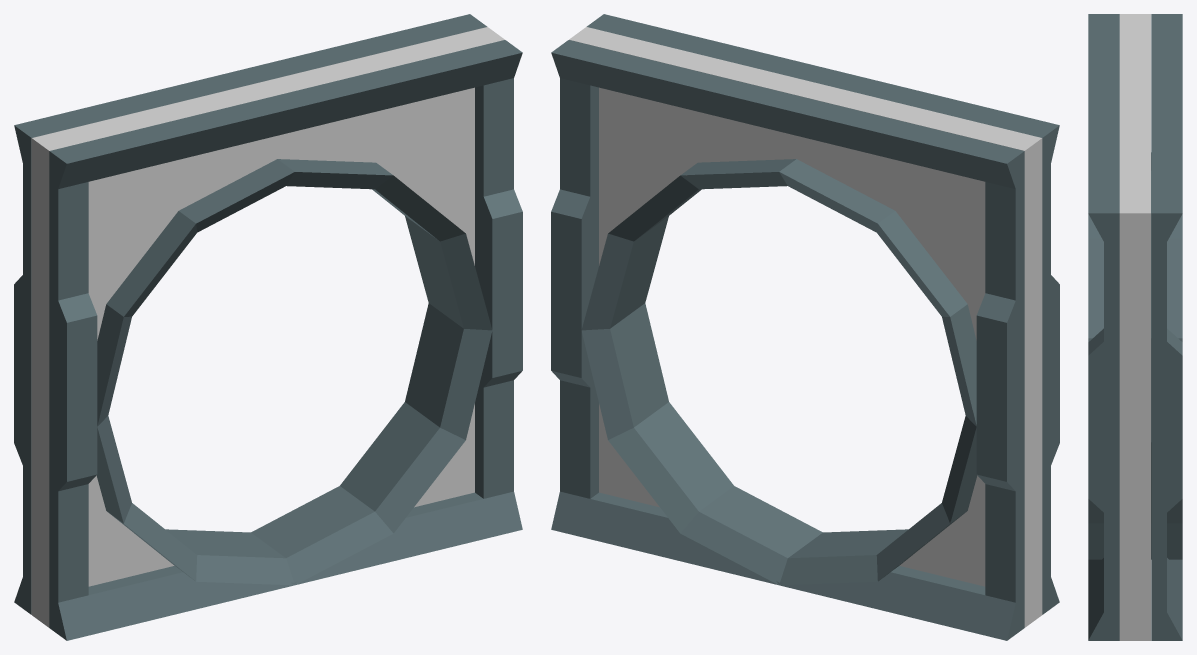
The model's file is scifi_wall_2sided_door_round.fbx.
3 views of the same model, side by side, from view 1: azimuth 30°, elevation 25°; view 2: azimuth 150°, elevation 25°; view 3: azimuth 270°, elevation 25° (orthographic). The views are drawn at different scales.
Parts seen in each view (by area): view 1: Cube.061; view 2: Cube.061; view 3: Cube.061.
Part boxes in pixels (<box>): Cube.061: <box>14,14,522,640</box>; Cube.061: <box>551,14,1059,640</box>; Cube.061: <box>1088,14,1182,640</box>.
Bounding box in the file's own units: 3 × 3 × 0.6018.
